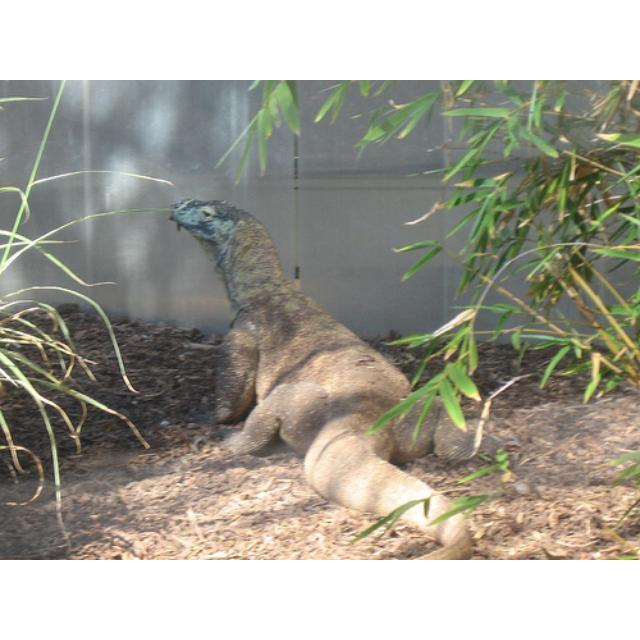KomodoDragon: (167, 195, 521, 557)
